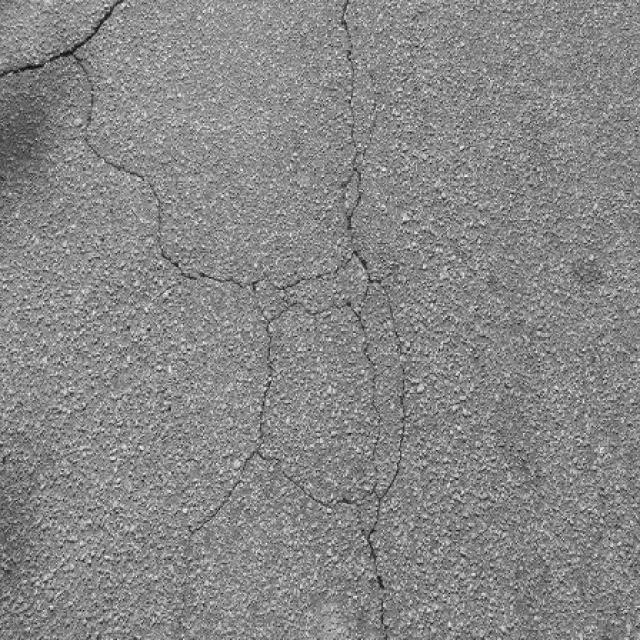Crack: (34, 2, 406, 639)
